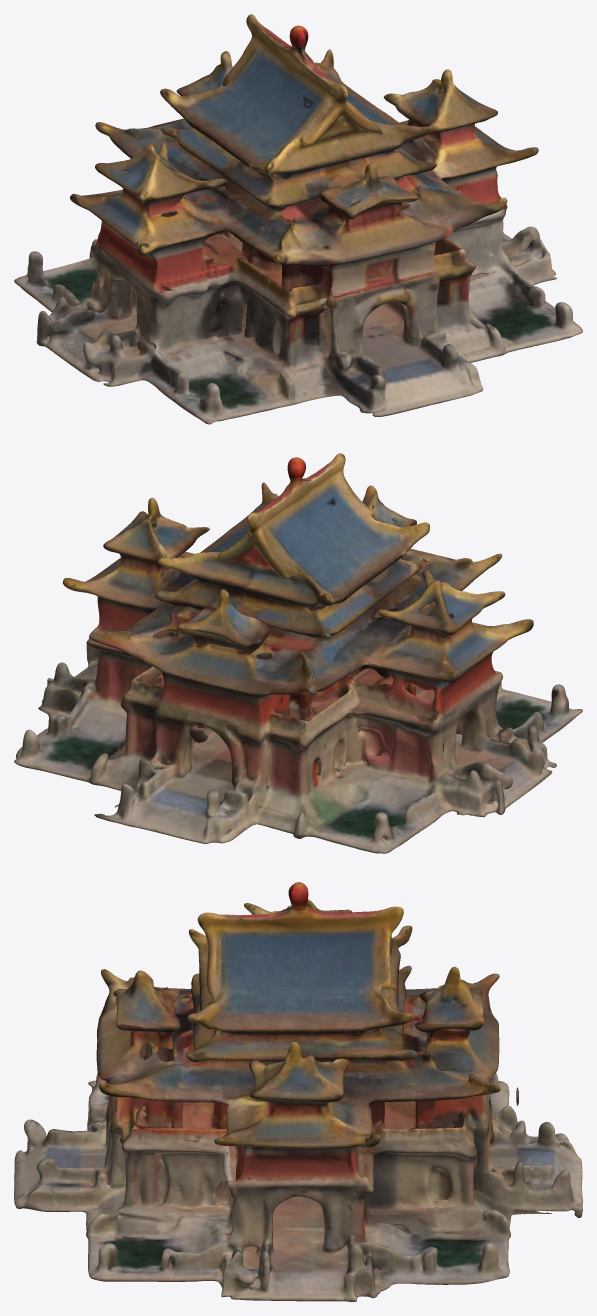
Rendered from bq_array_hall.hd.glb.
3 renders of one model, top to bottom at view 1: azimuth 30°, elevation 25°; view 2: azimuth 150°, elevation 25°; view 3: azimuth 270°, elevation 25°, orthographic. The views are drawn at different scales.
Size of the model in its own units: 2 by 1.16 by 1.99.
1 material, 1 textured.
